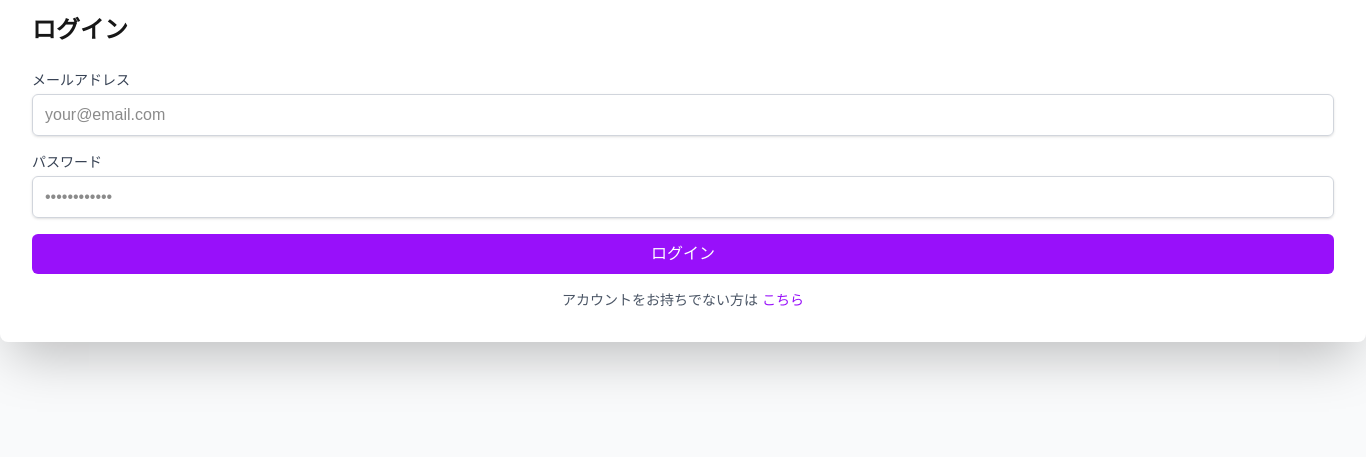
Test: LoginPageClient › エラーメッセージの種類 › その他のエラー時に通信エラーメッセージが表示される
Type "test@example.com" into the field labelled "メールアドレス".
click(683, 115); type("test@example.com")  # box top-left (32, 94), bottom-right (1334, 136)
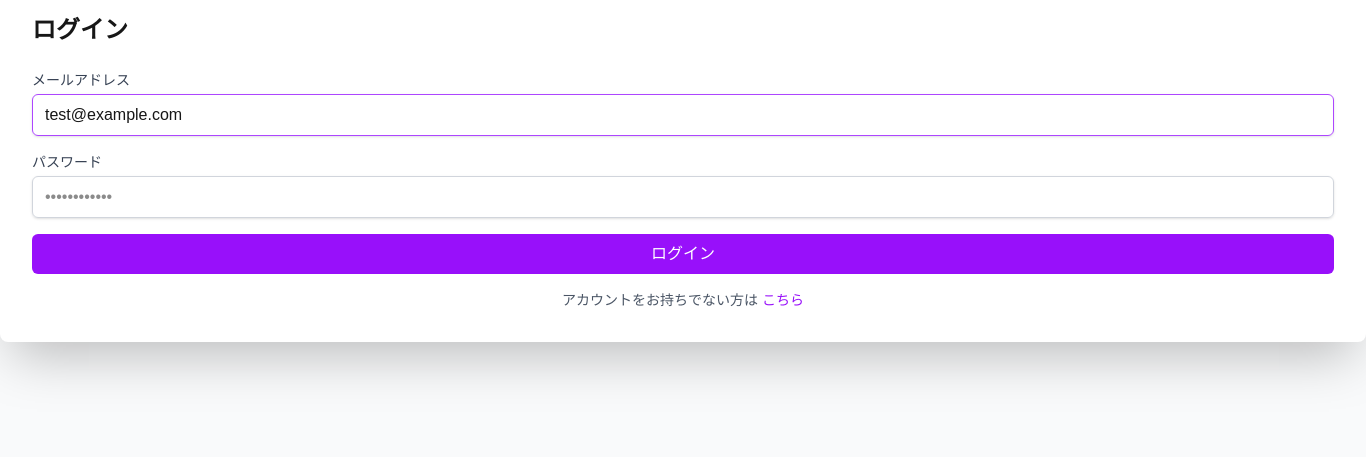
Type "Password123!" into the password field labelled "パスワード".
click(683, 197); type("Password123!")  # box top-left (32, 176), bottom-right (1334, 218)
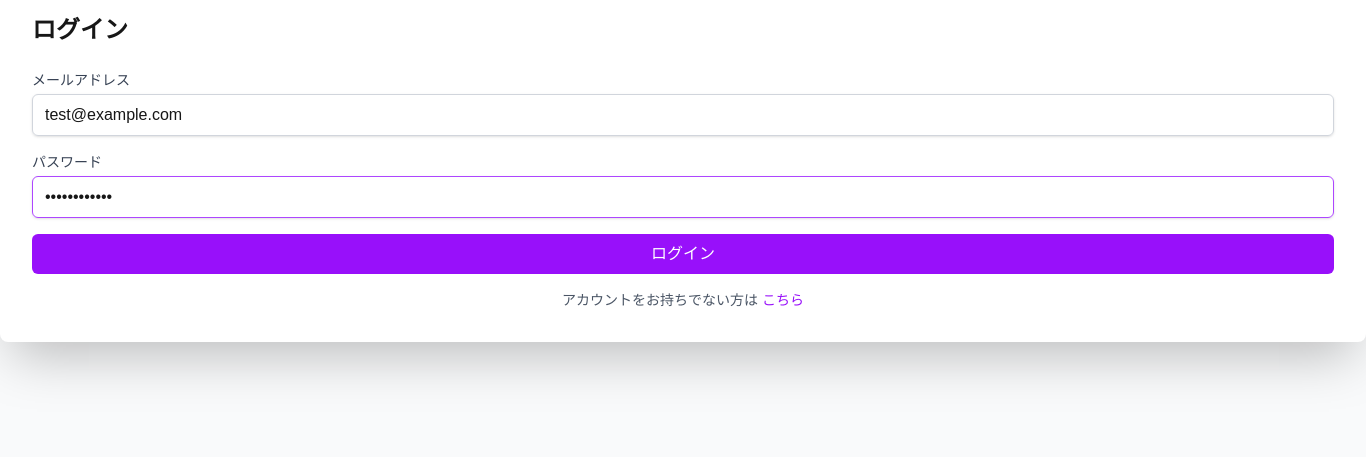
Click the button "ログイン".
click(683, 254)  # box top-left (32, 234), bottom-right (1334, 274)
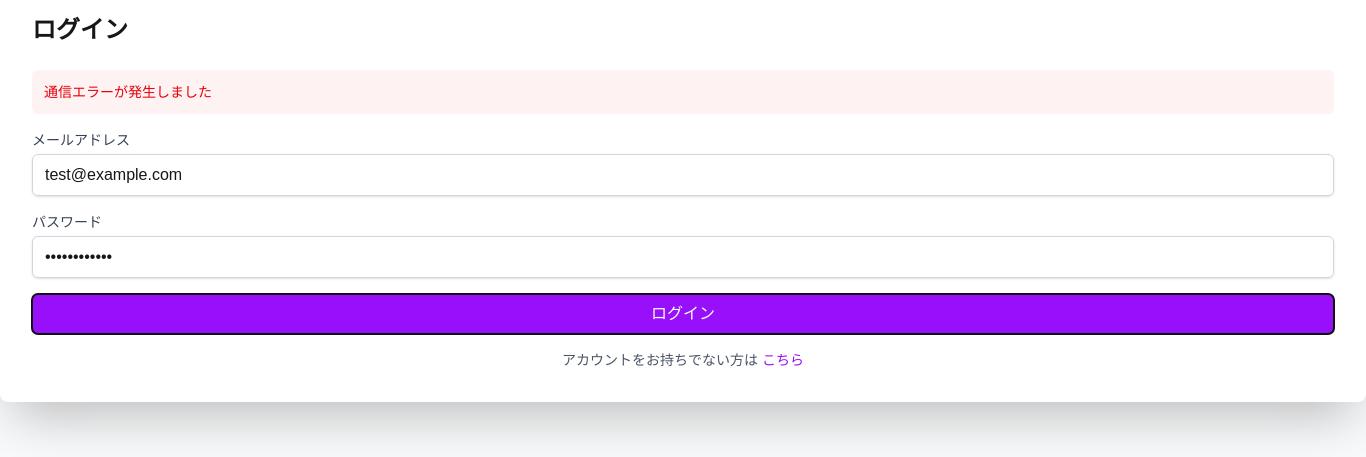
Now the text "通信エラーが発生しました" is shown, box top-left (32, 70), bottom-right (1334, 114)
